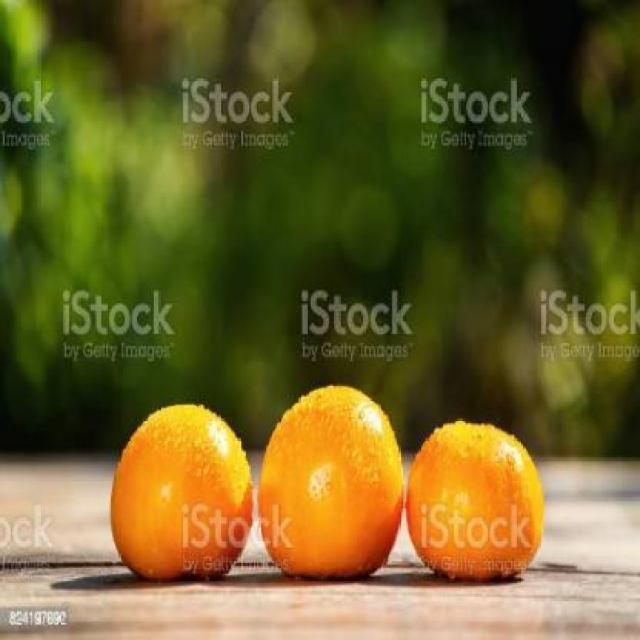Orange: (255, 383, 403, 580), (108, 402, 254, 580), (404, 417, 544, 580)
